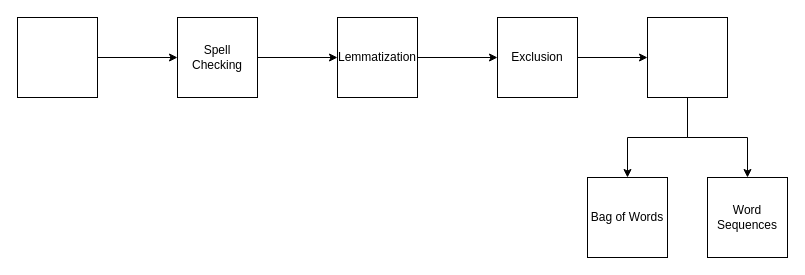
This 805x275 diagram has some shape labels left out. The centre of each missing label's shape, as x and y in pixels:
Deconstruction: the point at 687,57
Participant Data: the point at 57,57
